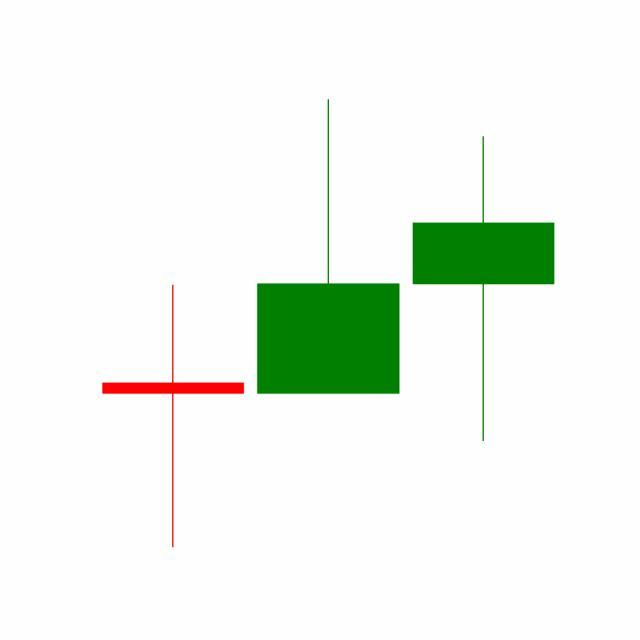Spinning Top: (406, 133, 562, 446)
